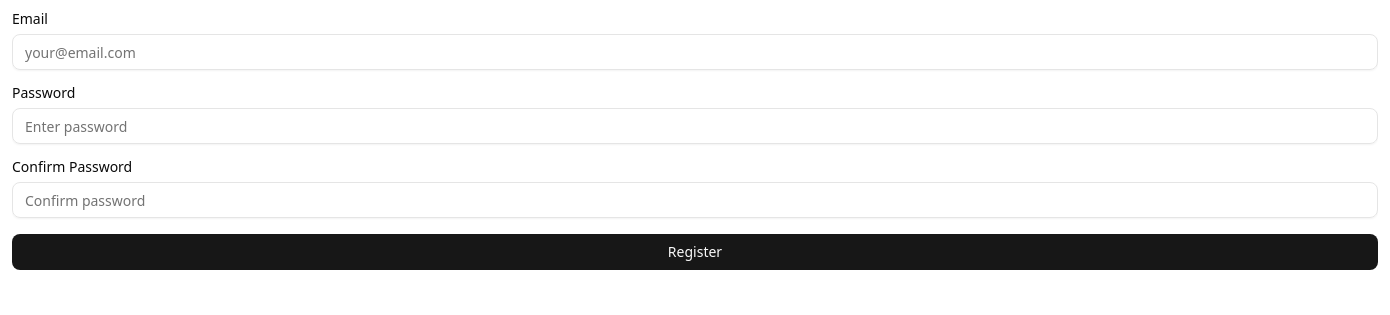
Test case: RegisterForm › real-time validation › validates email on change after being touched
Type invalid email and blur to mark as touched
Type "invalid" into the field labelled "Email".
click(695, 52); type("invalid")  # box left=12, top=34, right=1378, bottom=70
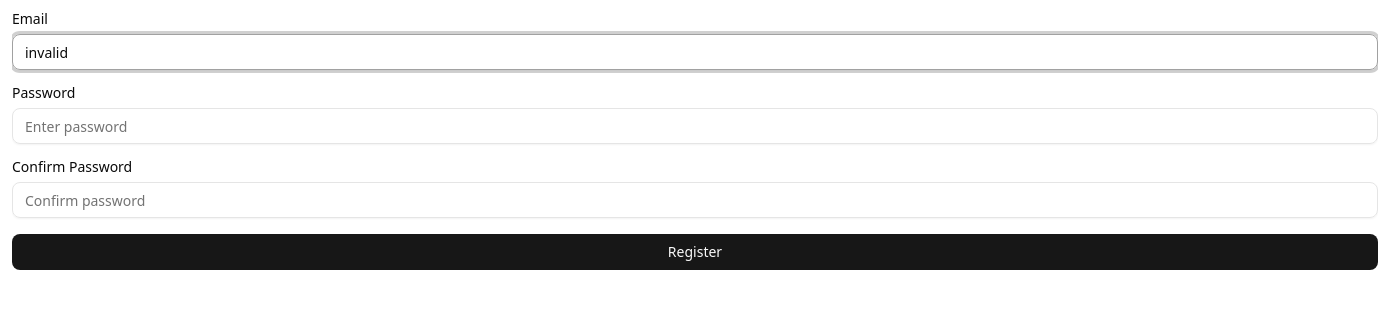
Press Tab
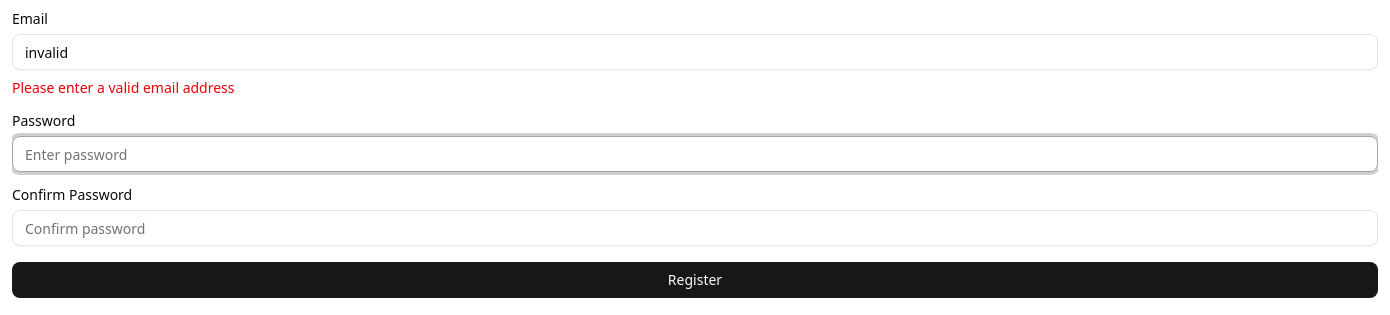
Expected: the text "Please enter a valid email address" is shown, left=12, top=78, right=234, bottom=97
Clear and type valid email
Replace the text in the field labelled "Email" with "valid@email.com" at (695, 52), box left=12, top=34, right=1378, bottom=70
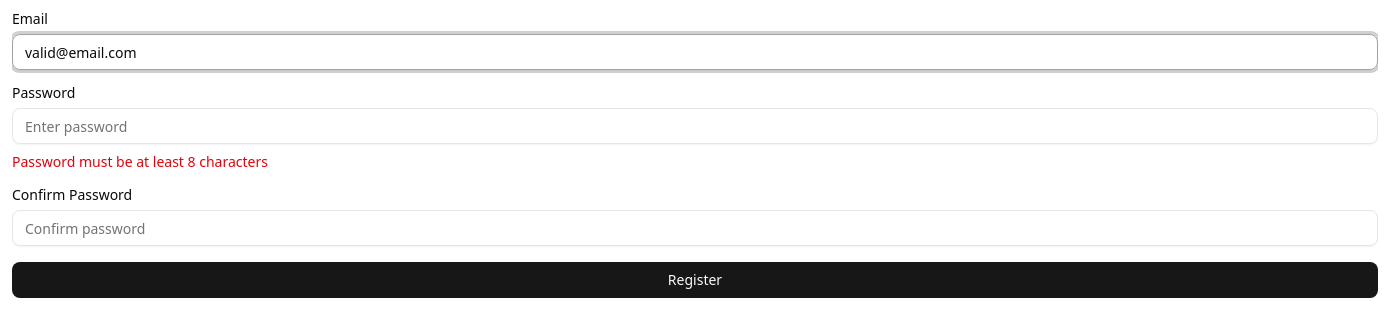
Expected: the text "valid email" is gone
